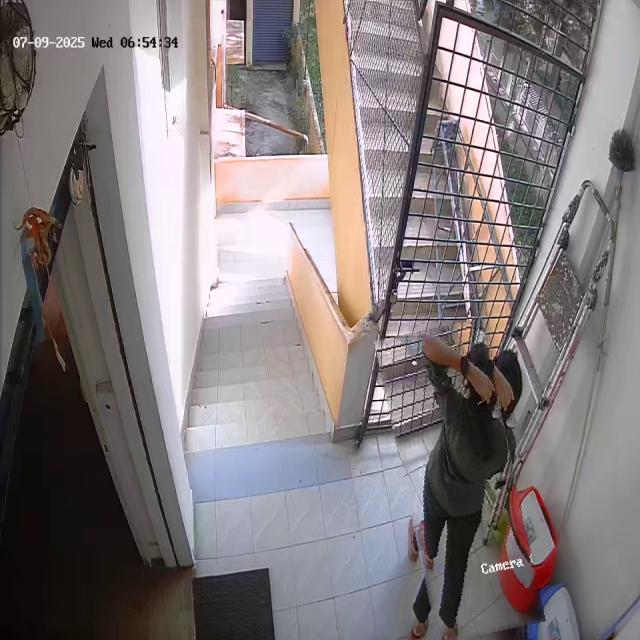person: (390, 322, 531, 640)
